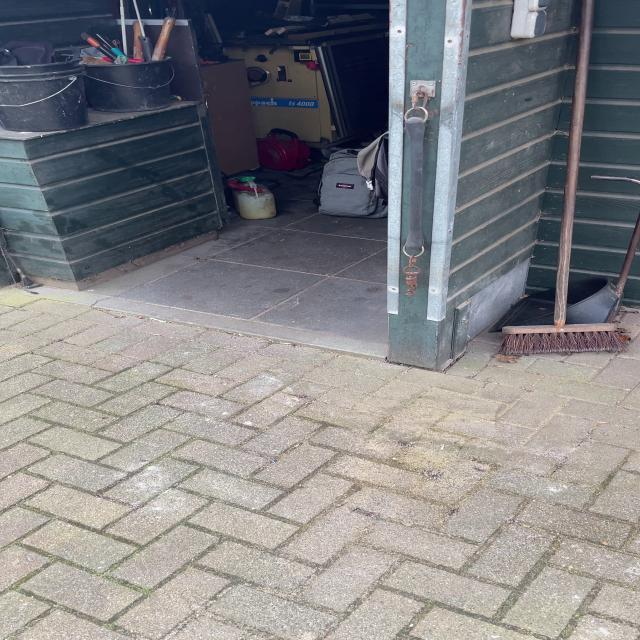backpack: (312, 144, 396, 221)
